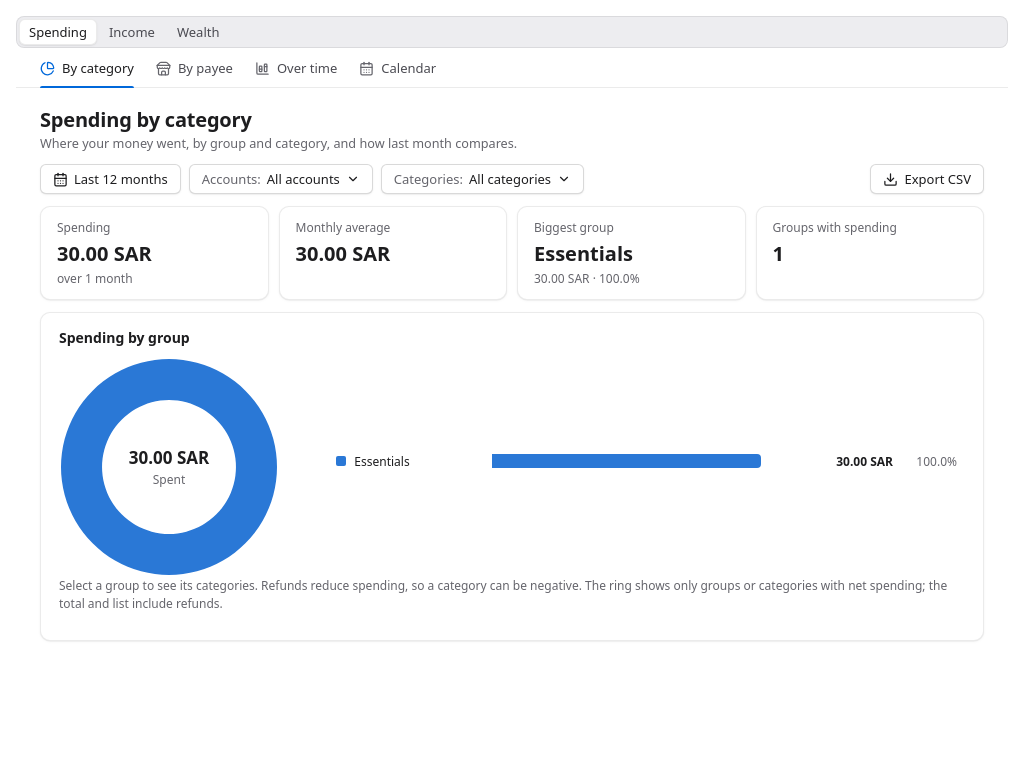
Test case: breaks spending down by group, then by category, then opens the register
Click the button "Essentials 30.00 SAR 100.0%" at (647, 461), box left=328, top=444, right=965, bottom=478
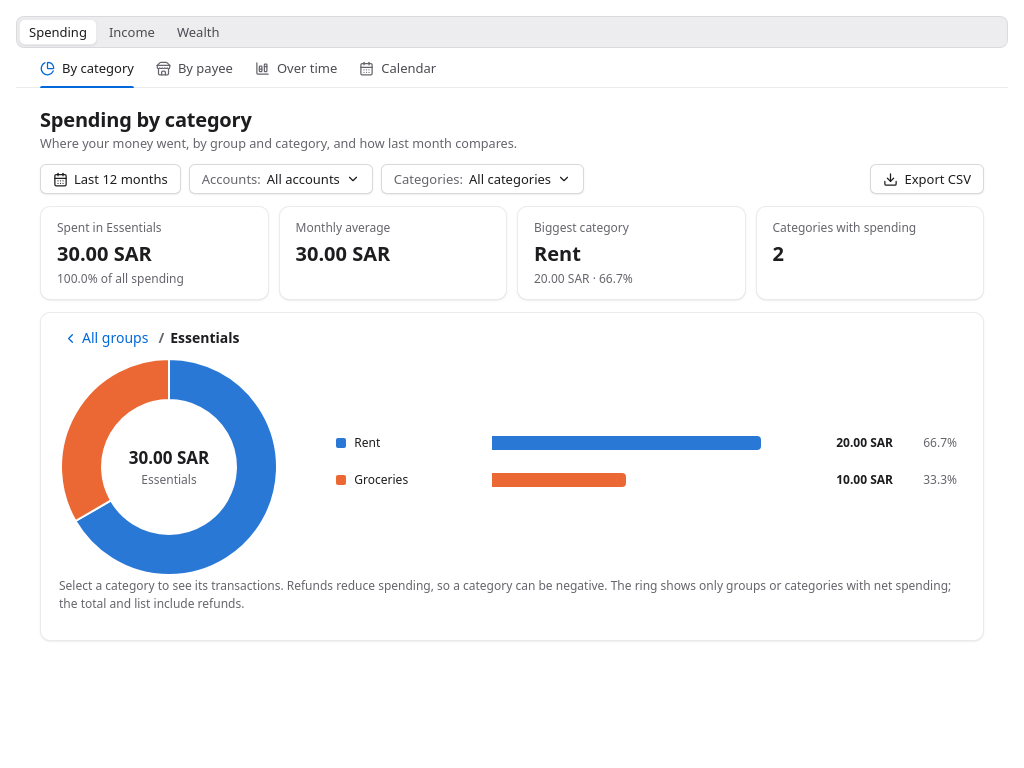
Click the button "Rent 20.00 SAR 66.7%" at (647, 443), box left=328, top=426, right=965, bottom=460
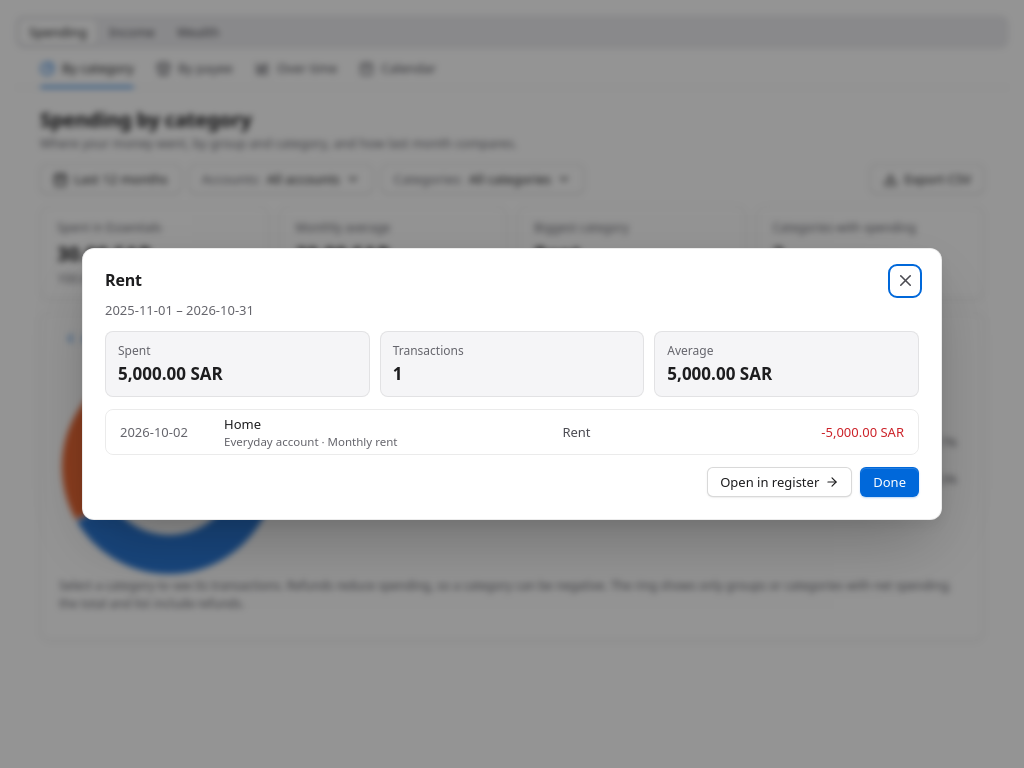
Click the button "Open in register" at (780, 482), box left=707, top=467, right=852, bottom=497
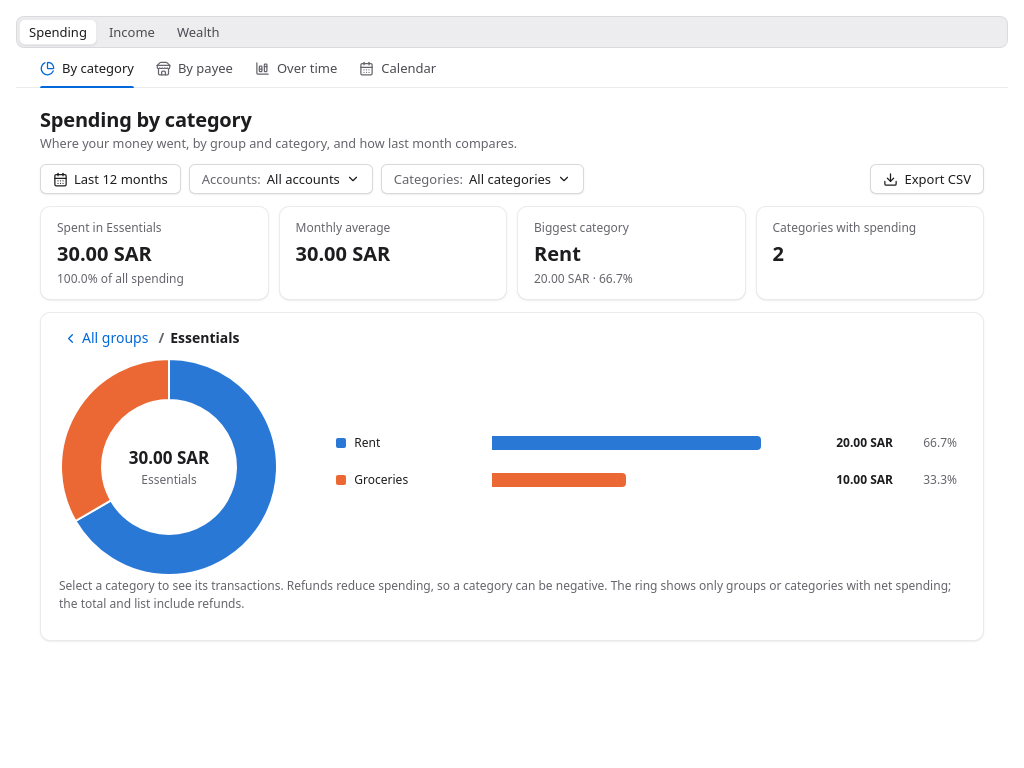
Result: the dialog is gone
